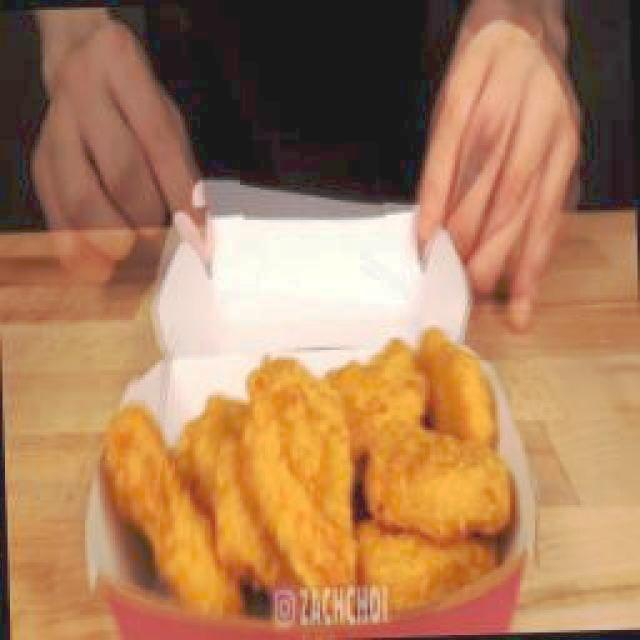chicken_nuggets: (91, 331, 537, 635), (239, 355, 360, 612), (102, 401, 242, 617), (177, 394, 281, 585), (366, 416, 513, 539), (323, 338, 427, 453), (420, 324, 498, 446)
